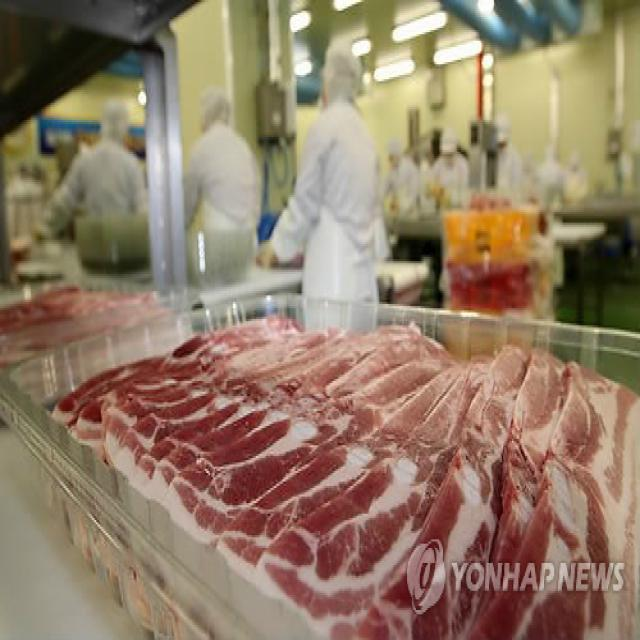pork: (87, 348, 624, 640)
